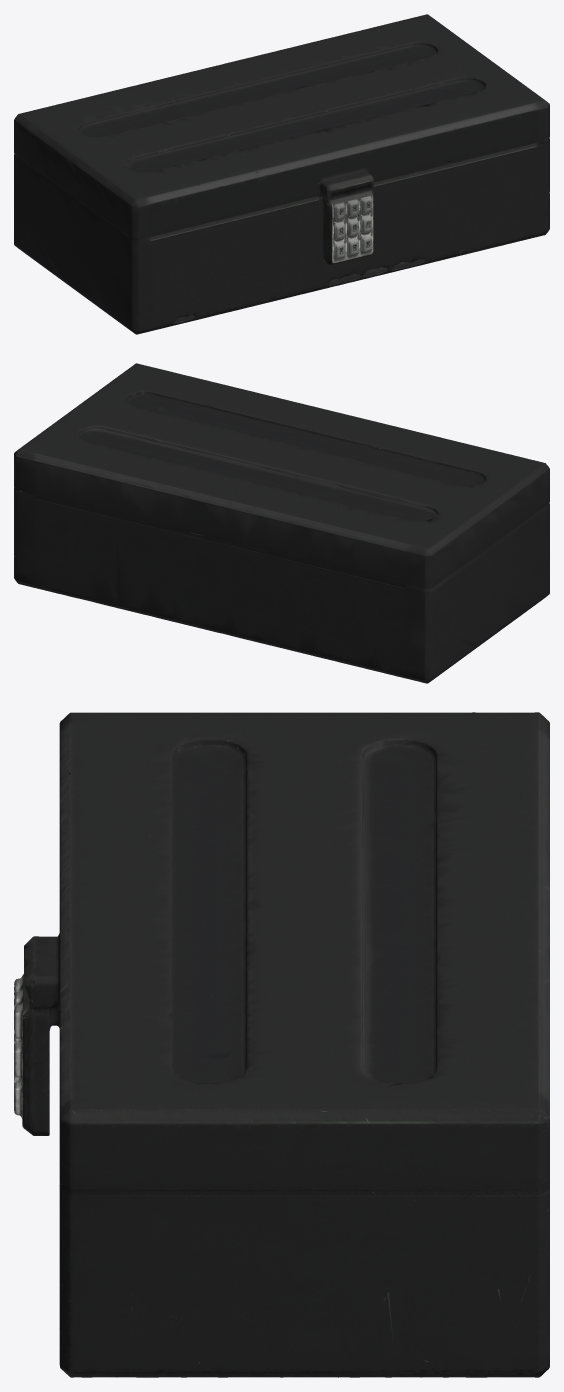
Rendered from Meshy_AI_Obsidian_Safe_0514111428_texture.fbx.
3 renders of one model, top to bottom at view 1: azimuth 30°, elevation 25°; view 2: azimuth 150°, elevation 25°; view 3: azimuth 270°, elevation 25°, orthographic. The views are drawn at different scales.
Parts seen in each view (by area): view 1: Mesh_0; view 2: Mesh_0; view 3: Mesh_0.
Part boxes in pixels (box(x1,y1,x2,y2)): Mesh_0: box(14, 14, 549, 334); Mesh_0: box(14, 363, 549, 683); Mesh_0: box(14, 712, 549, 1377).
Bounding box in the file's own units: 191 × 58.85 × 107.
Materials: 1 (1 with a texture image).
